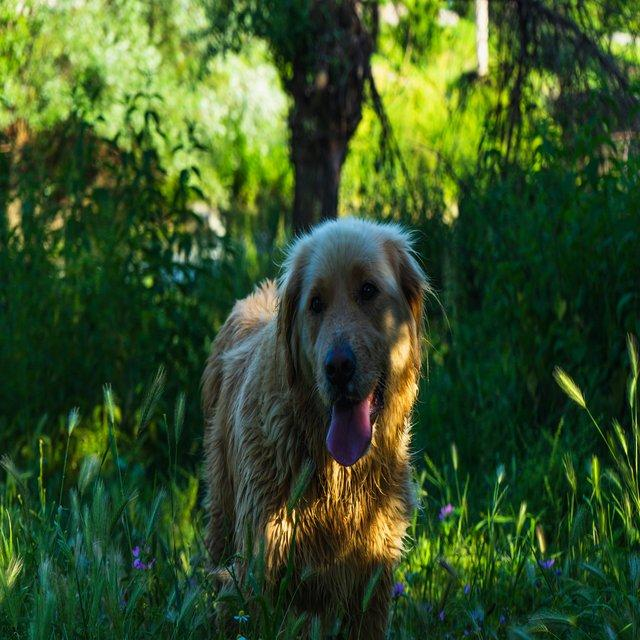retriever: (197, 214, 441, 638)
